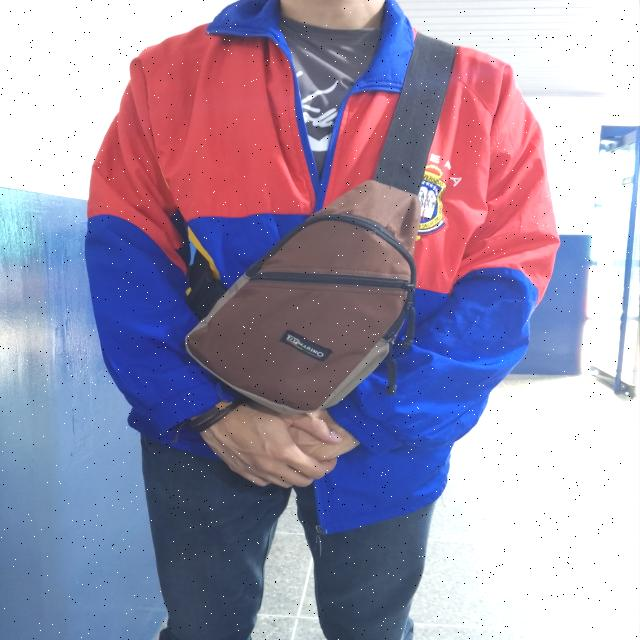chaqueta_unefa: (82, 0, 561, 537)
